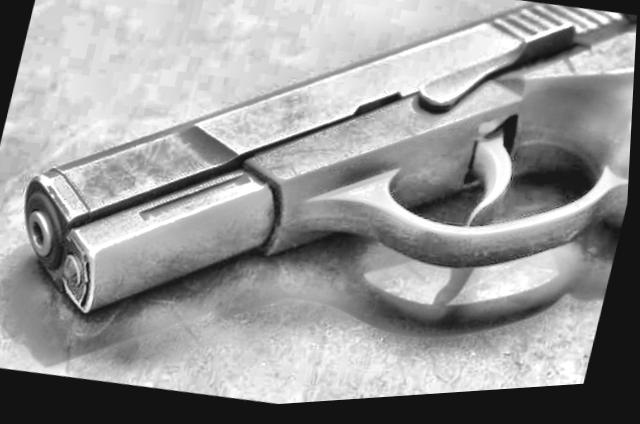pistol: (0, 0, 640, 416)
